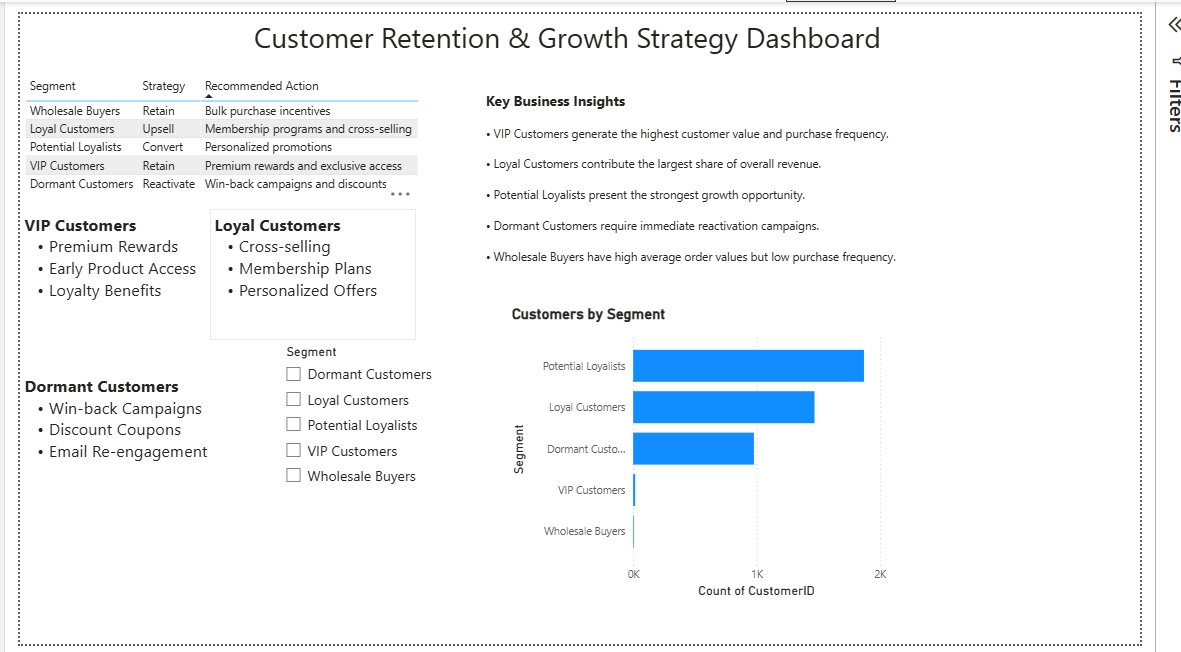

The page's visual inventory and layout, read from the dashboard file:
{"tool":"powerbi","page":{"name":"Strategic Recommendations","canvas":[1280,720],"ordinal":3},"visuals":[{"type":"textbox","box":[216.7,0,816.7,65.6],"z":0},{"type":"slicer","fields":{"Values":["segmented_customers.Segment"]},"box":[291.1,372.2,246.7,195.6],"z":1},{"type":"tableEx","fields":{"Values":["Segment_Recommendations.Segment","Segment_Recommendations.Strategy","Segment_Recommendations.Recommended Action"]},"box":[0,65.6,472.2,156.7],"z":2},{"type":"textbox","box":[0,222.2,236.7,128.9],"z":3},{"type":"textbox","box":[216.7,222.2,235.6,150],"z":4},{"type":"textbox","box":[0,406.7,251.1,126.7],"z":5},{"type":"textbox","box":[526.7,83.3,523.3,224.4],"z":6},{"type":"clusteredBarChart","title":"Customers by Segment","fields":{"Category":["segmented_customers.Segment"],"Y":["CountNonNull(segmented_customers.CustomerID)"]},"box":[556.7,332.2,437.8,340],"z":7}]}

Visuals, with their boxes on the page's 1280x720 design canvas (x1, y1, x2, y2). These are canvas units, not pixel positions in the 1181x652 screenshot, which may show the page scaled, cropped or inside an application window:
textbox: 217:0:1033:66
slicer - segmented_customers.Segment: 291:372:538:568
tableEx - Segment_Recommendations.Segment x Segment_Recommendations.Strategy: 0:66:472:222
textbox: 0:222:237:351
textbox: 217:222:452:372
textbox: 0:407:251:533
textbox: 527:83:1050:308
"Customers by Segment" clusteredBarChart: 557:332:994:672
